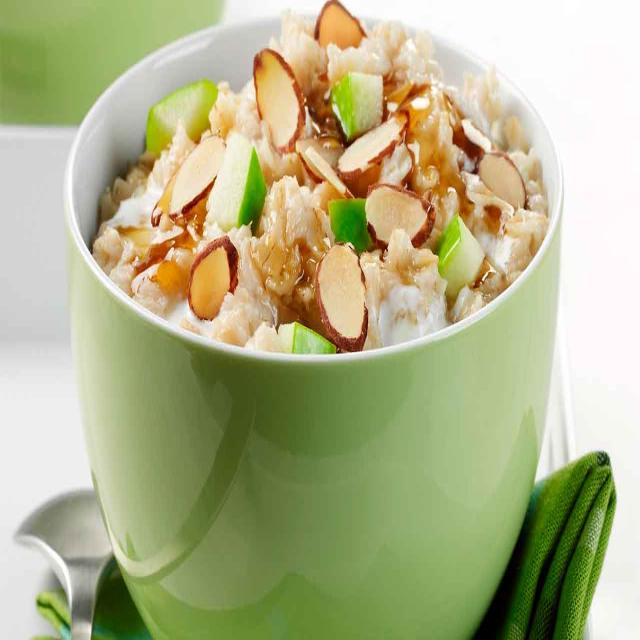avena: (81, 12, 561, 364)
